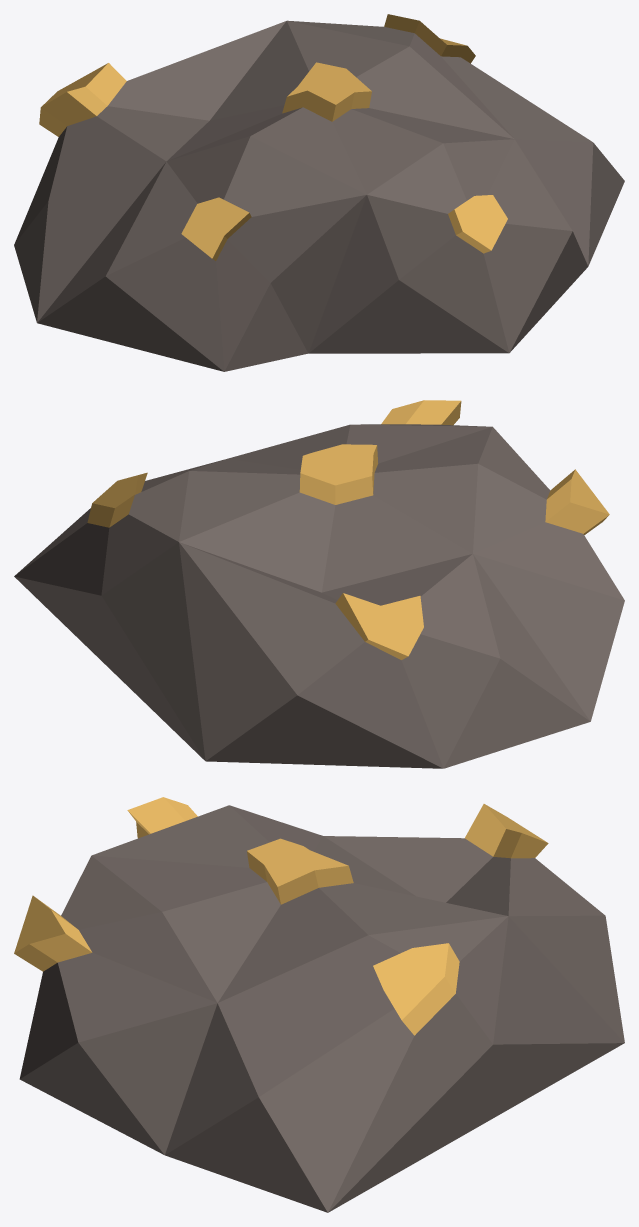
File: goldmine1.fbx
3 renders of one model, top to bottom at view 1: azimuth 30°, elevation 25°; view 2: azimuth 150°, elevation 25°; view 3: azimuth 270°, elevation 25°, orthographic. The views are drawn at different scales.
Visible parts, largest first — view 1: goldmine1; view 2: goldmine1; view 3: goldmine1.
Boxes of the visible parts, box(x1,y1,x2,y2) form: goldmine1: box(14, 14, 624, 371); goldmine1: box(14, 400, 624, 768); goldmine1: box(14, 797, 624, 1212).
Size of the model in its own units: 6.31 by 1.98 by 5.43.
